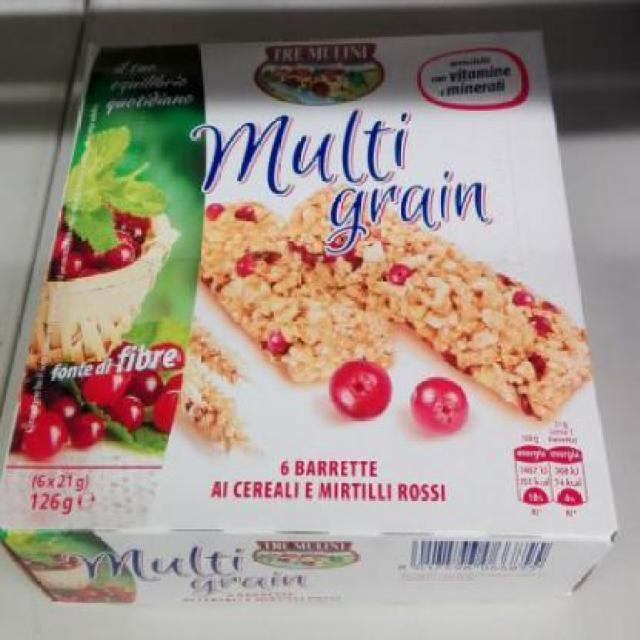Cereal bar: (29, 43, 618, 595)
